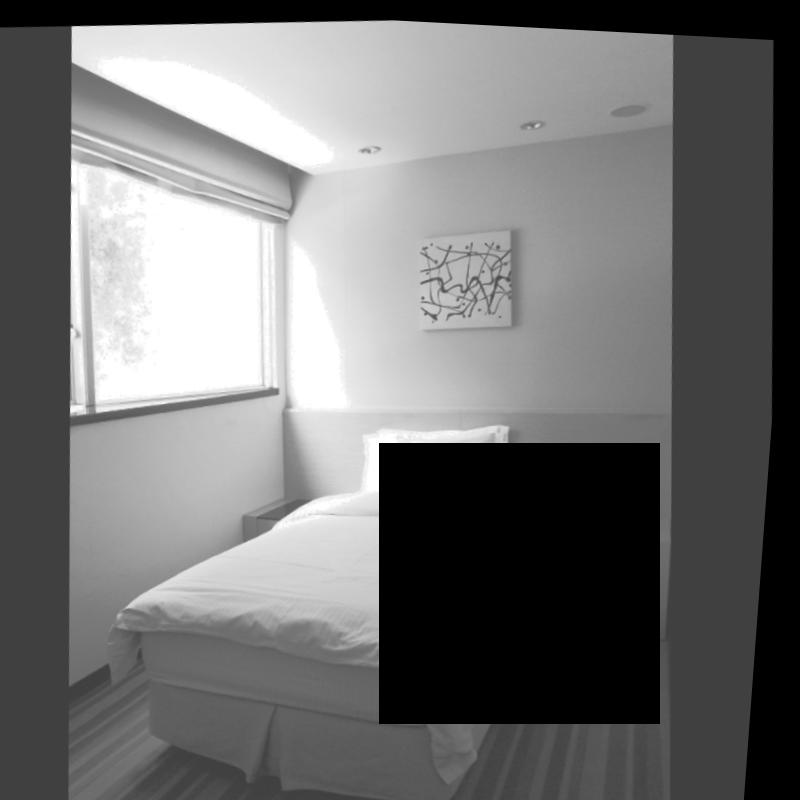pillow: (360, 415, 511, 502)
